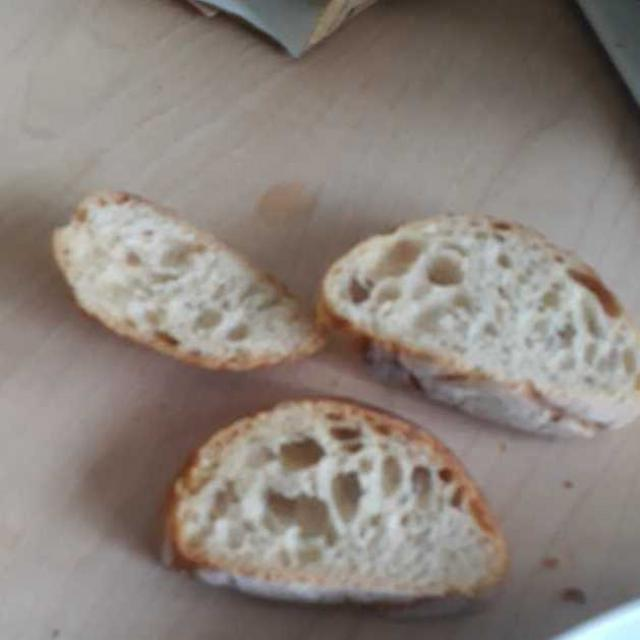bread: (34, 195, 619, 613)
